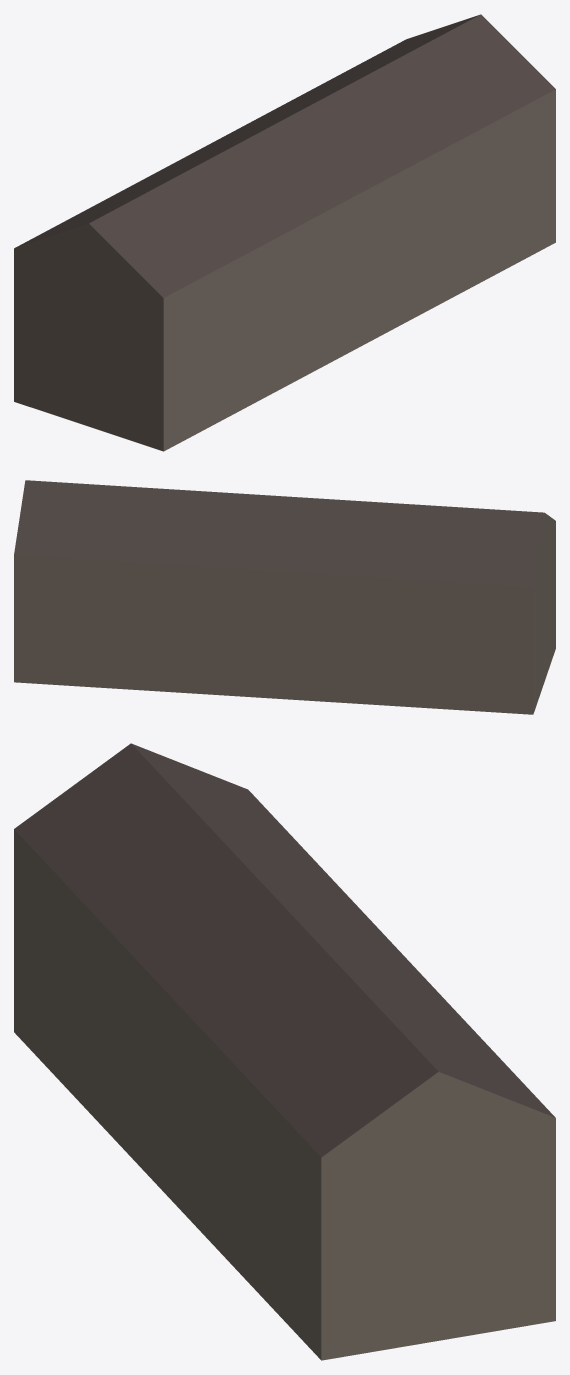
The picture shows the model from 3 angles, top to bottom: view 1: azimuth 30°, elevation 25°; view 2: azimuth 150°, elevation 25°; view 3: azimuth 270°, elevation 25°; orthographic projection. The views are drawn at different scales.
Parts seen in each view (by area): view 1: HP-w1544735747; view 2: HP-w1544735747; view 3: HP-w1544735747.
Part boxes in pixels (bbox=[...]): HP-w1544735747: bbox=[14, 14, 555, 451]; HP-w1544735747: bbox=[14, 480, 555, 714]; HP-w1544735747: bbox=[14, 743, 555, 1360].
Size of the model in its own units: 34.99 by 11.93 by 21.78.
